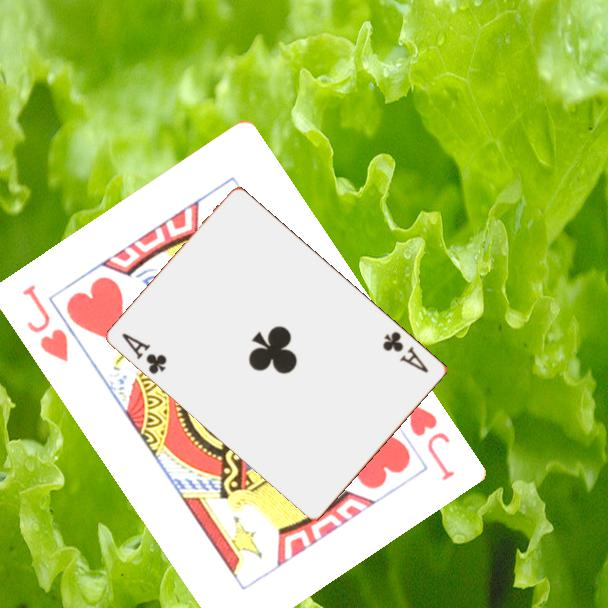c01: (379, 328, 432, 376), (118, 329, 170, 377)
h11: (17, 280, 71, 365), (404, 399, 458, 484)
